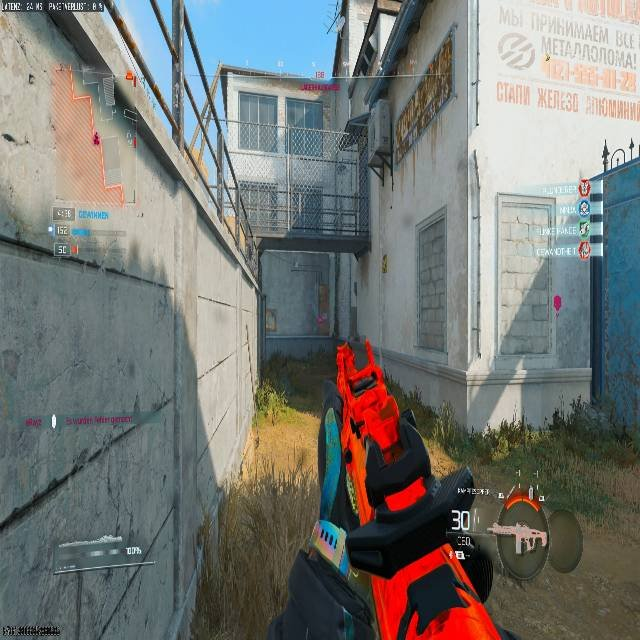player: (336, 343, 355, 379)
